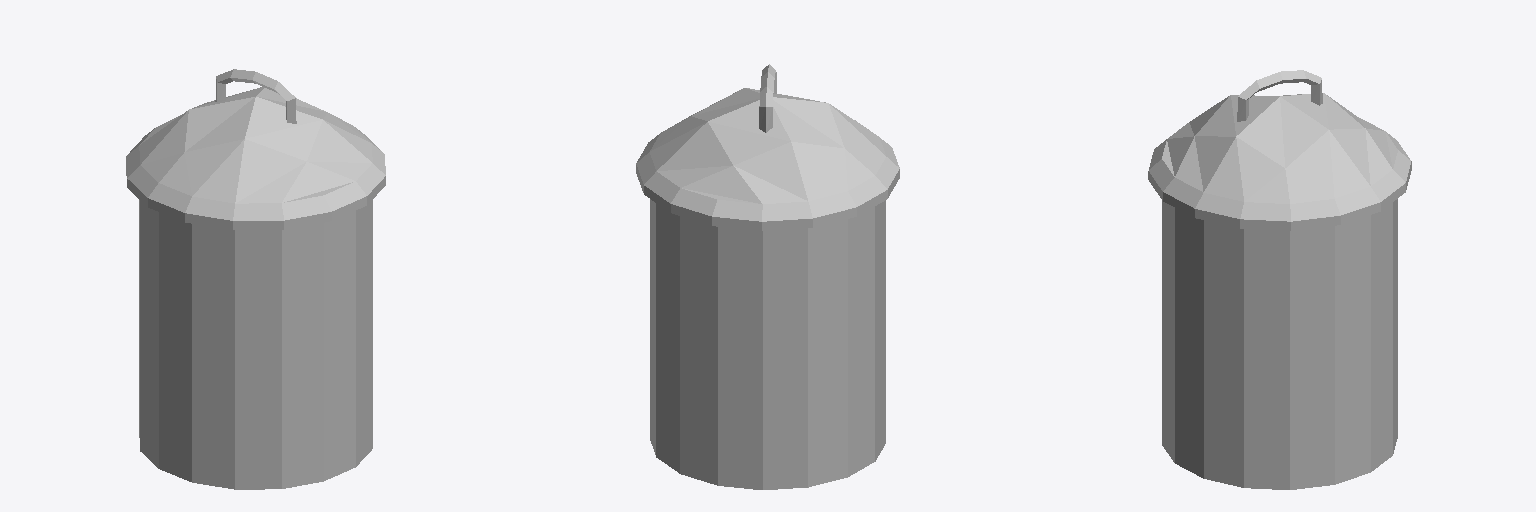
The model's file is Bidone.obj.
3 views of the same model, side by side, from view 1: azimuth 30°, elevation 25°; view 2: azimuth 150°, elevation 25°; view 3: azimuth 270°, elevation 25° (orthographic).
Visible parts, largest first — view 1: Cylinder.021_Cylinder.016; view 2: Cylinder.021_Cylinder.016; view 3: Cylinder.021_Cylinder.016.
Boxes of the visible parts, x1=… form: Cylinder.021_Cylinder.016: x1=126, y1=69, x2=385, y2=489; Cylinder.021_Cylinder.016: x1=636, y1=64, x2=899, y2=489; Cylinder.021_Cylinder.016: x1=1148, y1=70, x2=1411, y2=489.
Size of the model in its own units: 3.18 by 4.93 by 3.18.